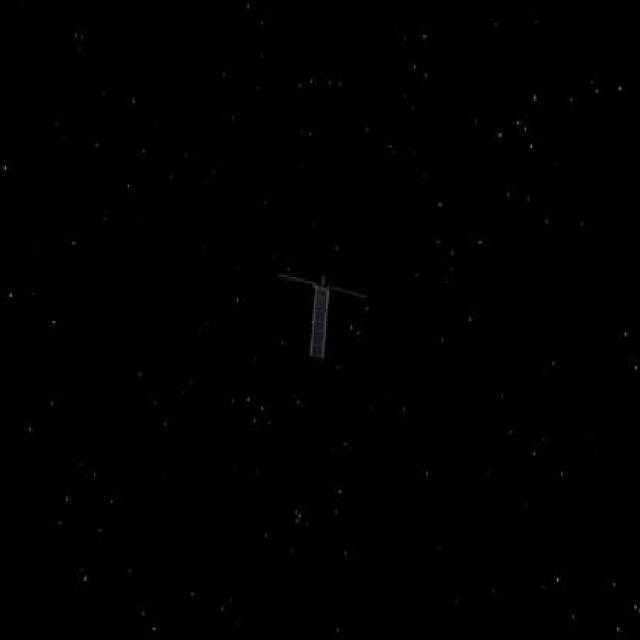satellite: (275, 260, 381, 364)
